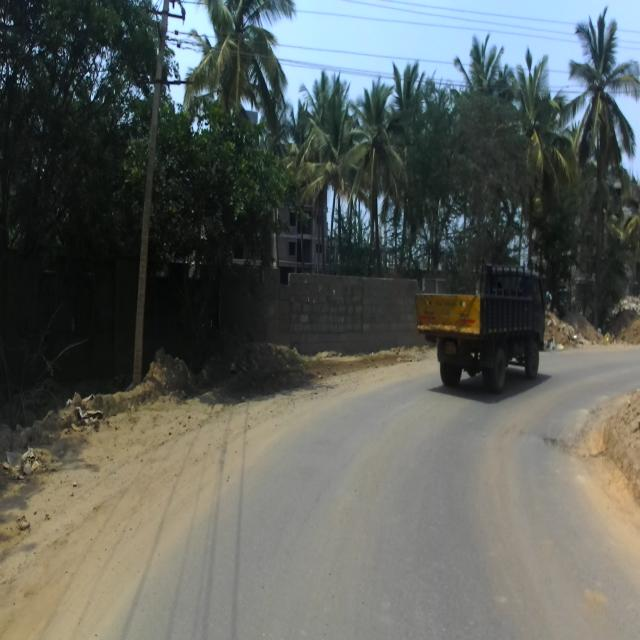truck ahead at: (419, 254, 549, 394)
